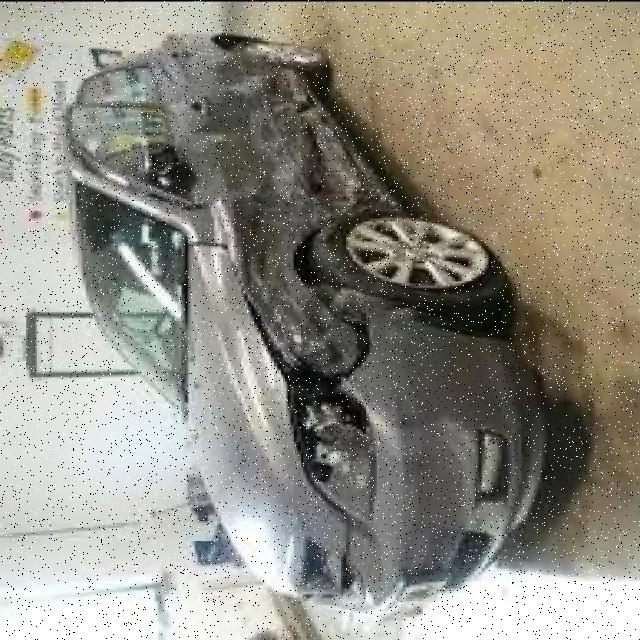damage: (193, 26, 394, 465)
